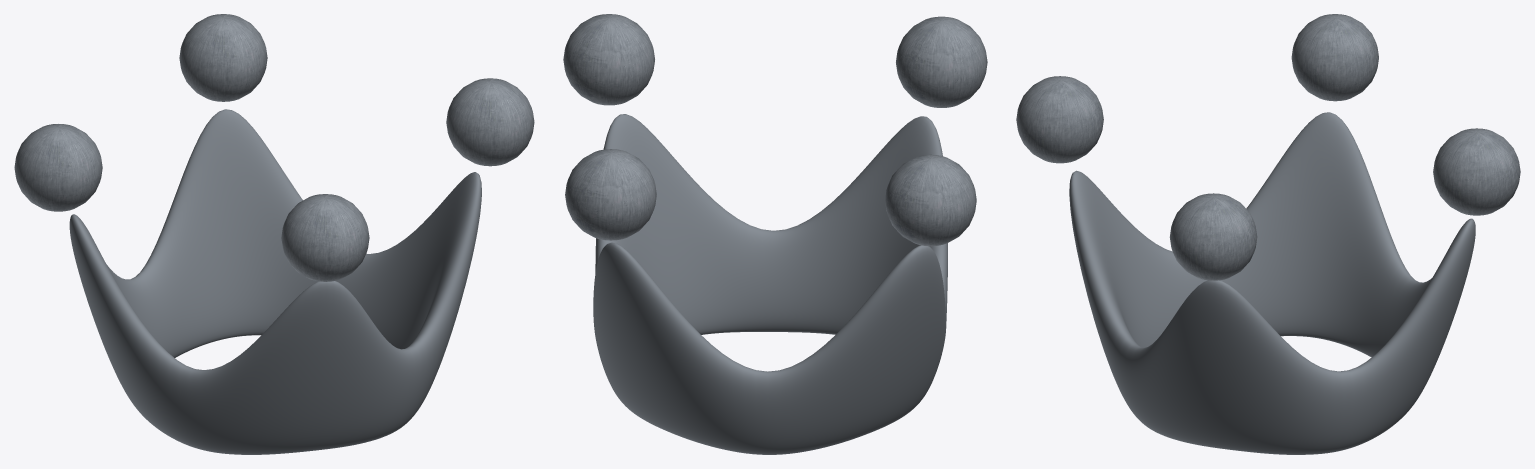
File: Corona.glb
3 renders of one model, left to right at view 1: azimuth 30°, elevation 25°; view 2: azimuth 150°, elevation 25°; view 3: azimuth 270°, elevation 25°, orthographic. The views are drawn at different scales.
Parts seen in each view (by area): view 1: prim4, prim1, prim2, prim0, prim3; view 2: prim4, prim2, prim1, prim3, prim0; view 3: prim4, prim2, prim3, prim0, prim1.
Part boxes in pixels (x1,y1,x2,y2): prim4: (69, 109, 481, 454); prim1: (14, 124, 102, 211); prim2: (446, 78, 534, 166); prim0: (281, 194, 369, 281); prim3: (179, 14, 267, 101); prim4: (593, 114, 947, 454); prim2: (563, 14, 654, 105); prim1: (885, 154, 976, 246); prim3: (565, 149, 656, 240); prim0: (896, 16, 987, 107); prim4: (1069, 112, 1475, 454); prim2: (1169, 193, 1257, 280); prim3: (1433, 128, 1520, 215); prim0: (1016, 76, 1103, 163); prim1: (1291, 14, 1378, 101).
Bounding box in the file's own units: 2.05 × 1.29 × 2.02.
1 material, 1 textured.
